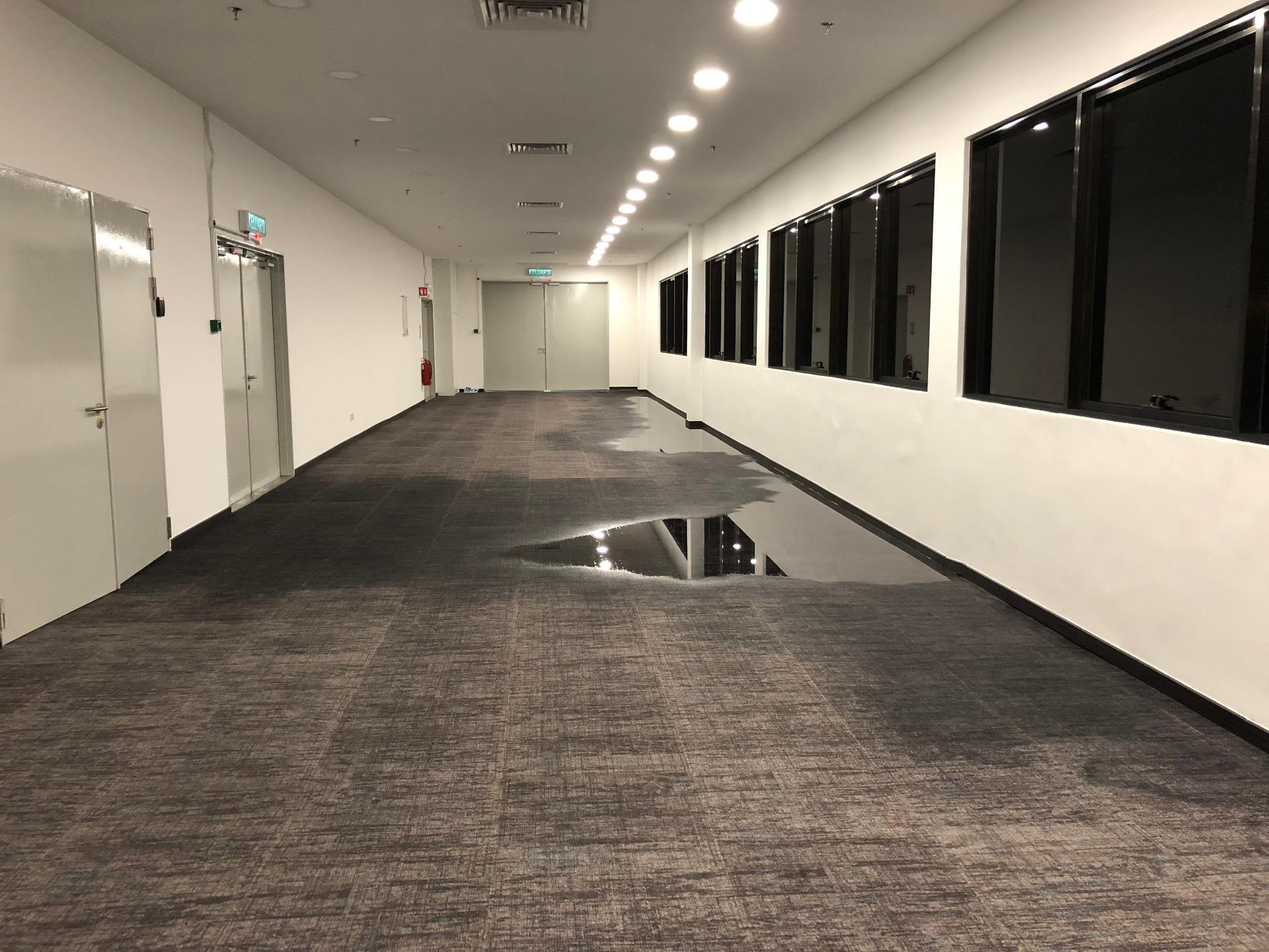water accumulation: (499, 463, 963, 588), (598, 387, 749, 456)
